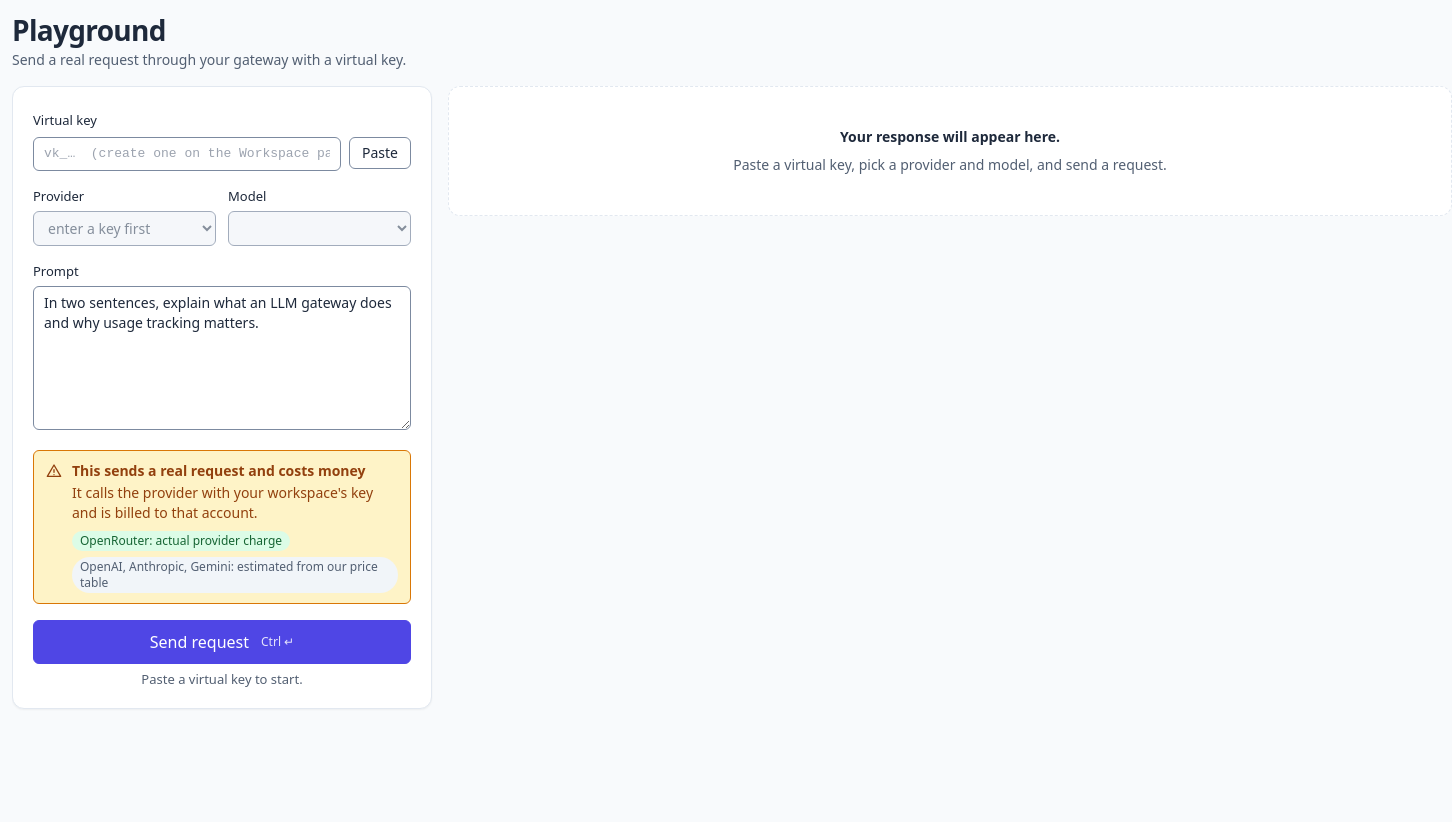
Test: Playground: sending › sends the chosen provider, model and prompt with the key, and shows the response with its facts
Type "vk_demo_key_123" into the field labelled "Virtual key".
click(187, 154); type("vk_demo_key_123")  # box top-left (33, 137), bottom-right (341, 170)
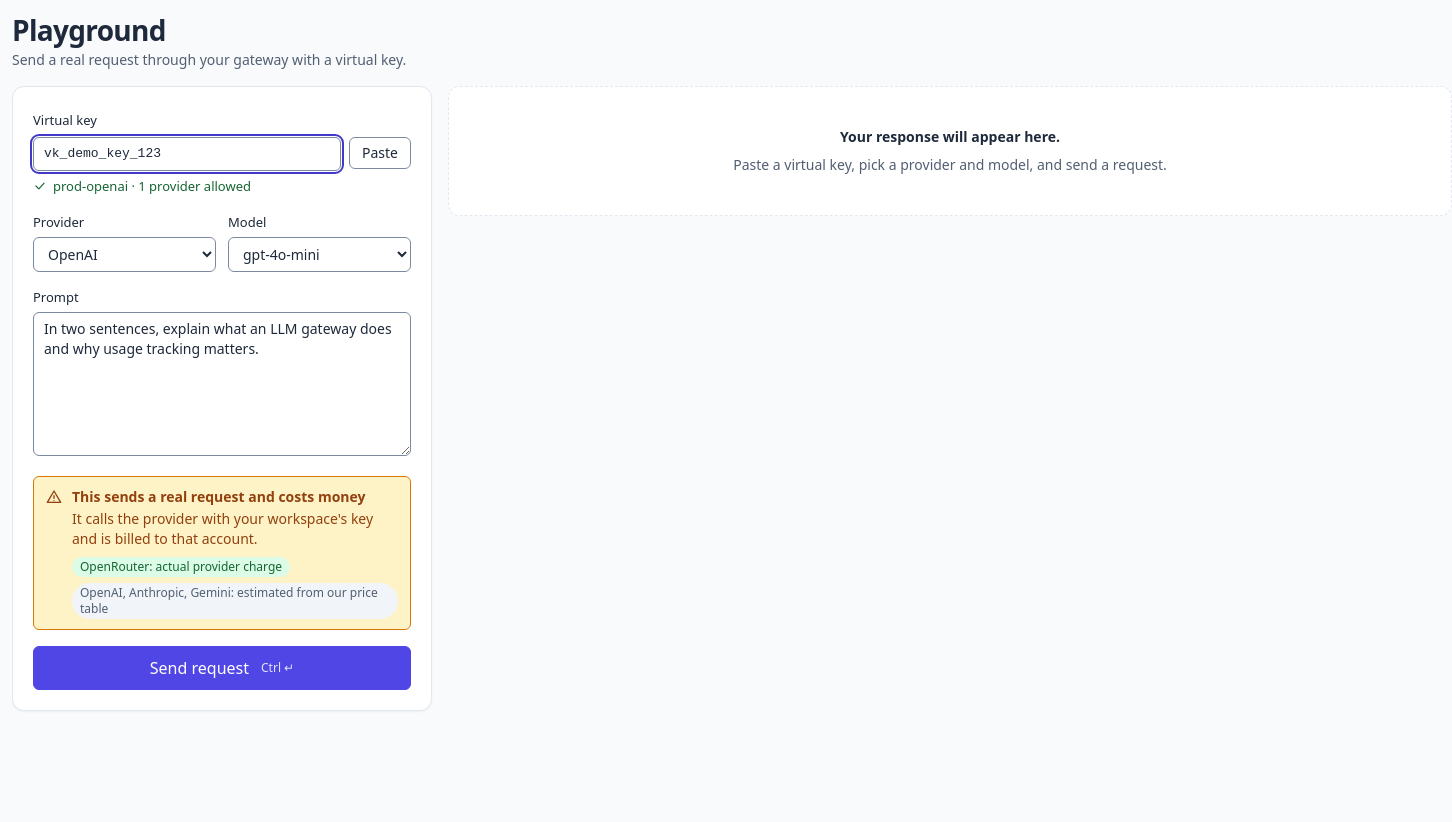
Check: the text "prod-openai · 1 provider allowed" is shown, box top-left (33, 176), bottom-right (251, 194)
Click the button "Send request Ctrl ↵".
click(222, 668)  # box top-left (33, 646), bottom-right (411, 690)
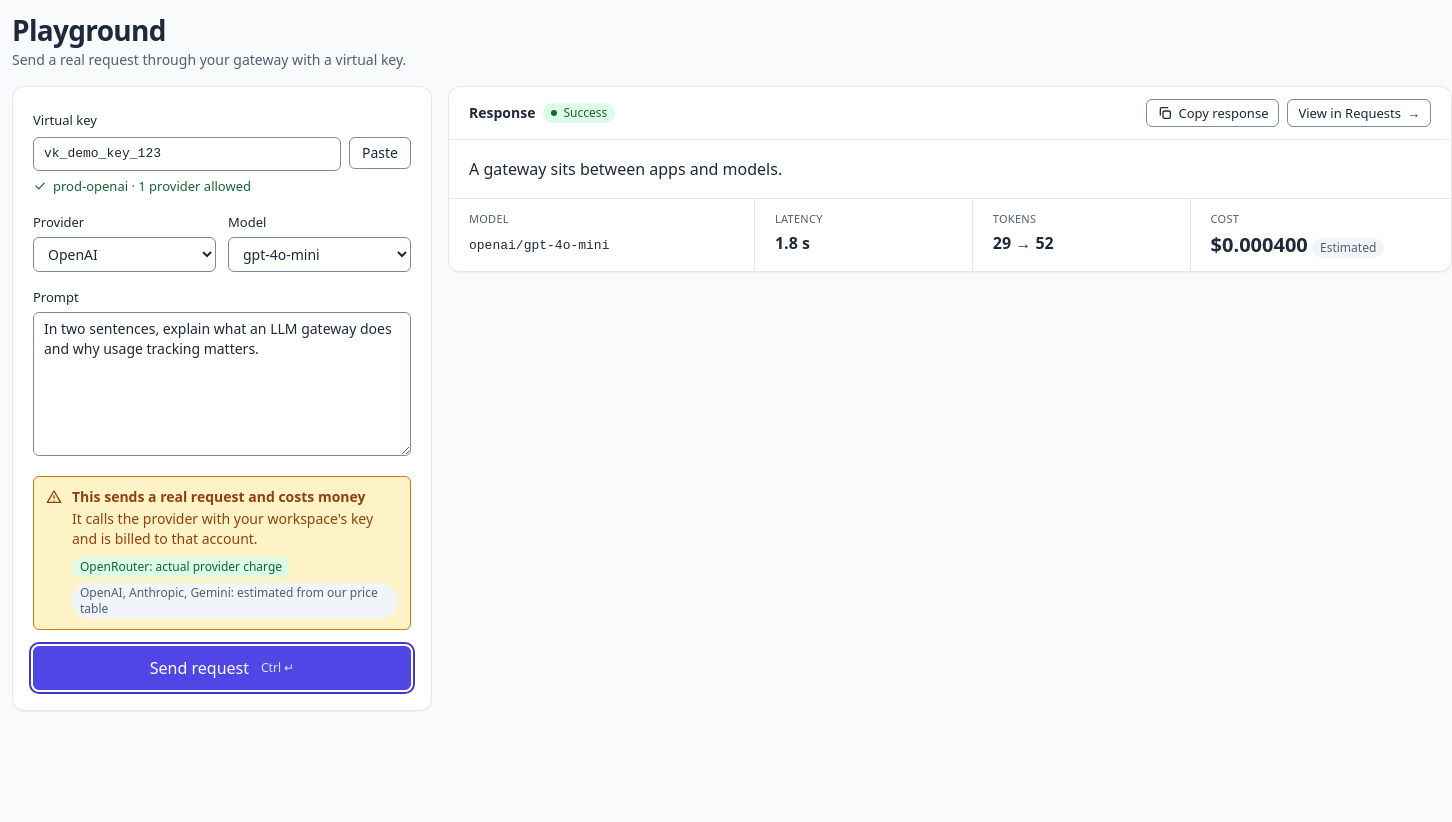
Check: the text "A gateway sits between apps and models." is shown, box top-left (469, 158), bottom-right (782, 180)
Check: the text "openai/gpt-4o-mini" is shown, box top-left (469, 238), bottom-right (610, 253)
Check: the text "1.8 s" is shown, box top-left (775, 232), bottom-right (810, 254)
